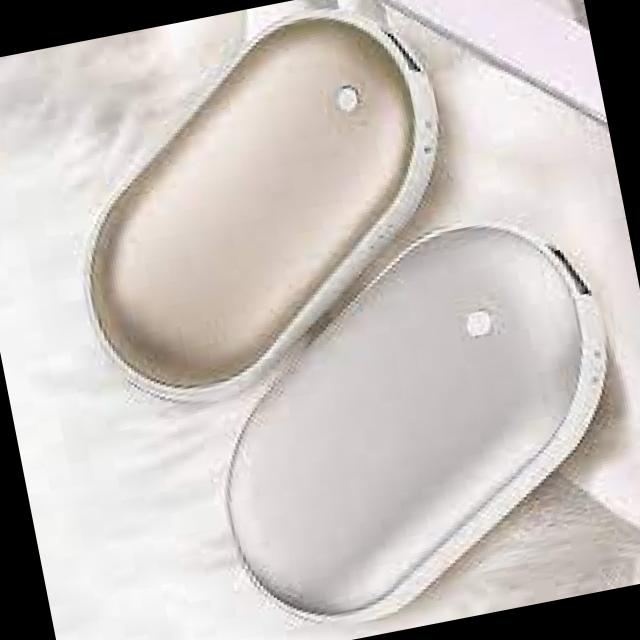power_bank: (176, 193, 640, 640), (37, 0, 485, 418)
